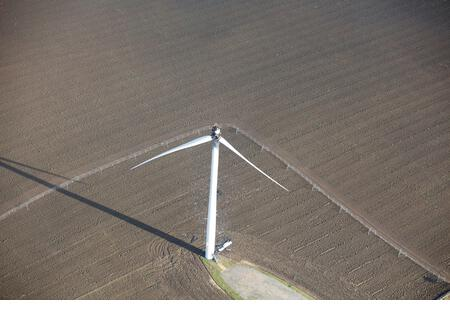faulty: (135, 122, 289, 195)
